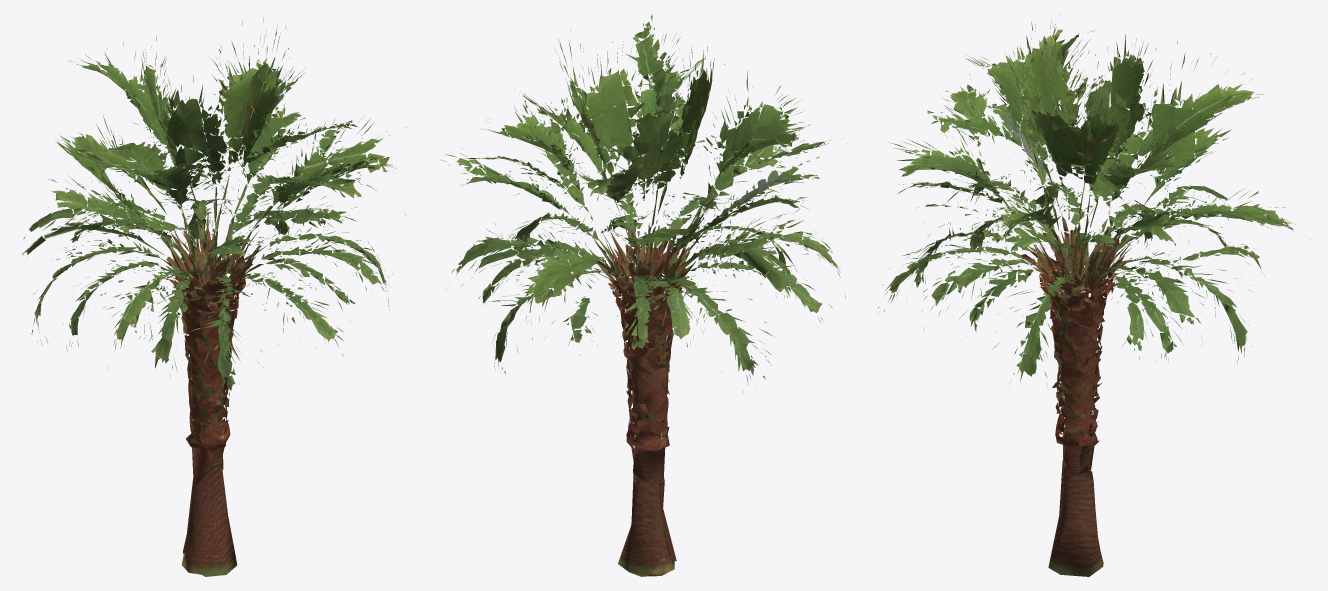
File: palm_c.glb
3 views of the same model, side by side, from view 1: azimuth 30°, elevation 25°; view 2: azimuth 150°, elevation 25°; view 3: azimuth 270°, elevation 25° (orthographic).
Parts seen in each view (by area): view 1: Mesh_0; view 2: Mesh_0; view 3: Mesh_0.
Part boxes in pixels (<box>): Mesh_0: <box>22,19,407,576</box>; Mesh_0: <box>440,14,845,576</box>; Mesh_0: <box>878,15,1305,576</box>.
Bounding box in the file's own units: 1.3 × 1.87 × 1.4.
1 material, 1 textured.
